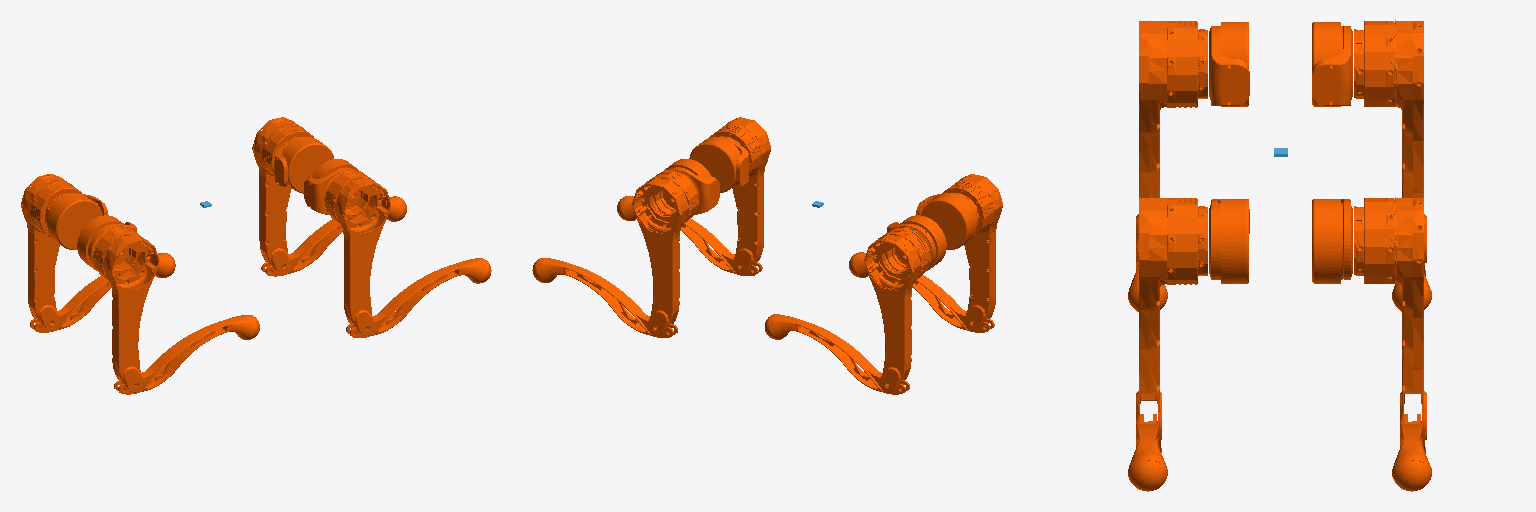
URDF robot description (sduog48):
<?xml version="1.0" ?>
<!-- =================================================================================== -->
<!-- |    This document was autogenerated by xacro from robot.xacro                    | -->
<!-- |    EDITING THIS FILE BY HAND IS NOT RECOMMENDED                                 | -->
<!-- =================================================================================== -->
<robot name="sduog48">
  <material name="black">
    <color rgba="0.0 0.0 0.0 1.0"/>
  </material>
  <material name="blue">
    <color rgba="0.0 0.0 0.8 1.0"/>
  </material>
  <material name="green">
    <color rgba="0.0 0.8 0.0 1.0"/>
  </material>
  <material name="grey">
    <color rgba="0.2 0.2 0.2 1.0"/>
  </material>
  <material name="silver">
    <color rgba="0.9137254901960784 0.9137254901960784 0.8470588235294118 1.0"/>
  </material>
  <material name="orange">
    <color rgba="1.0 0.4235294117647059 0.0392156862745098 1.0"/>
  </material>
  <material name="brown">
    <color rgba="0.8705882352941177 0.8117647058823529 0.7647058823529411 1.0"/>
  </material>
  <material name="red">
    <color rgba="0.8 0.0 0.0 1.0"/>
  </material>
  <material name="white">
    <color rgba="1.0 1.0 1.0 1.0"/>
  </material>

  <link name="trunk">
    <visual>
      <origin rpy="0 0 0" xyz="0 0 0"/>
      <geometry>
        <mesh filename="../meshes/trunk.stl" scale="1 1 1"/>
      </geometry>
    </visual>
    <collision>
      <origin rpy="0 0 0" xyz="0 0 0"/>
      <geometry>
        <!-- <box size="0.342 0.22 0.11"/> -->
        <box size="0.301 0.2 0.11"/>
      </geometry>
    </collision>
    <inertial>
      <origin rpy="0 0 0" xyz="-0.01 0.002 -0.005"/>
      <mass value="7.0"/>
      <inertia ixx="0.030338" ixy="0.001323" ixz="0.000764" iyy="0.106987" iyz="-9.7e-05" izz="0.124175"/>
    </inertial>
  </link>
  <!-- Imu is fixed to the base link -->
  <joint name="imu_link_joint" type="fixed">
    <origin rpy="0. 0. 0." xyz="0. 0. 0."/>
    <parent link="trunk"/>
    <child link="imu_link"/>
  </joint>
  <!-- Imu link -->
  <link name="imu_link">
    <inertial>
      <mass value="0.01"/>
      <origin rpy="0 0 0" xyz="0 0 0"/>
      <inertia ixx="0.000001" ixy="0" ixz="0" iyy="0.000001" iyz="0" izz="0.000001"/>
    </inertial>
    <visual>
      <origin rpy="0 0 0" xyz="0 0 0"/>
      <geometry>
        <box size="0.015 0.015 0.004"/>
      </geometry>
    </visual>
    <material name="orange">
      <color rgba="255 108 10 255"/>
    </material>
  </link>
  <gazebo reference="imu_link">
    <material>Gazebo/Orange</material>
  </gazebo>
  <gazebo reference="imu_link_joint">
    <disableFixedJointLumping>true</disableFixedJointLumping>
  </gazebo>
  <joint name="FR_hip_joint" type="revolute">
    <origin rpy="0 0 0" xyz="0.226 -0.055 0"/>
    <parent link="trunk"/>
    <child link="FR_hip"/>
    <axis xyz="1 0 0"/>
    <dynamics damping="0" friction="0"/>
    <limit effort="38" lower="-1.0471975511965976" upper="1.0471975511965976" velocity="30"/>
  </joint>
  <link name="FR_hip">
    <visual>
      <origin rpy="3.141592653589793 0 0" xyz="0 0 0"/>
      <geometry>
        <mesh filename="../meshes/hip.stl" scale="1 1 1"/>
      </geometry>
      <material name="orange"/>
    </visual>
    <collision>
      <origin rpy="1.5707963267948966 0 0" xyz="0 0 0"/>
      <geometry>
        <cylinder length="0.04" radius="0.045"/>
      </geometry>
    </collision>
    <inertial>
      <origin rpy="0 0 0" xyz="-0.003311 -0.000635 3.1e-05"/>
      <mass value="0.75"/>
      <inertia ixx="0.00050276" ixy="6.2e-07" ixz="-3.3e-07" iyy="0.00077521" iyz="1.8e-07" izz="0.00050221"/>
    </inertial>
  </link>
  <joint name="FR_thigh_joint" type="revolute">
    <origin rpy="0 0 0" xyz="0 -0.0875 0"/>
    <parent link="FR_hip"/>
    <child link="FR_thigh"/>
    <axis xyz="0 -1 0"/>
    <dynamics damping="0" friction="0"/>
    <limit effort="38" lower="-3.141592653589793" upper="1.0471975511965976" velocity="30"/>
  </joint>
  <link name="FR_thigh">
    <visual>
      <origin rpy="0 0 0" xyz="0 0 0"/>
      <geometry>
        <mesh filename="../meshes/thigh_mirror.stl" scale="1 1 1"/>
      </geometry>
      <material name="orange"/>
    </visual>
    <collision>
      <origin rpy="0 1.6707963267948966 0" xyz="-0.012 0 -0.1125"/>
      <geometry>
        <box size="0.225 0.0245 0.034"/>
      </geometry>
    </collision>
    <collision>
      <origin rpy="1.5707963267948966 0 0" xyz="0 0.025 0"/>
      <geometry>
        <cylinder length="0.04" radius="0.045"/>
      </geometry>
    </collision>
    <inertial>
      <origin rpy="0 0 0" xyz="-0.002 0.023 -0.0263"/>
      <mass value="1.25"/>
      <inertia ixx="0.005297" ixy="-0.000064" ixz="-0.000305" iyy="0.005324" iyz="-0.000752" izz="0.001094"/>
    </inertial>
  </link>
  <joint name="FR_calf_joint" type="revolute">
    <origin rpy="0 0 0" xyz="0 0 -0.225"/>
    <parent link="FR_thigh"/>
    <child link="FR_calf"/>
    <axis xyz="0 -1 0"/>
    <dynamics damping="0" friction="0"/>
    <limit effort="38" lower="0.9162978572970231" upper="2.6965336943312392" velocity="30"/>
  </joint>
  <link name="FR_calf">
    <visual>
      <origin rpy="0 0 0" xyz="0 0 0"/>
      <geometry>
        <mesh filename="../meshes/calf.stl" scale="1 1 1"/>
      </geometry>
      <material name="orange"/>
    </visual>
    <collision>
      <origin rpy="0 1.5707963267948966 0" xyz="0.0 0 -0.1125"/>
      <geometry>
        <box size="0.225 0.016 0.016"/>
      </geometry>
    </collision>
    <inertial>
      <origin rpy="0 0 0" xyz="0.01 0.0 -0.097"/>
      <mass value="0.2"/>
      <inertia ixx="0.00148254" ixy="0.0" ixz="-0.00019113" iyy="0.00152903" iyz="0.0" izz="6.72e-05"/>
    </inertial>
  </link>
  <joint name="FR_foot_fixed" type="fixed" dont_collapse="true">
    <origin rpy="0 0 0" xyz="0 0 -0.225"/>
    <parent link="FR_calf"/>
    <child link="FR_foot"/>
  </joint>
  <link name="FR_foot">
    <visual>
      <origin rpy="0 0 0" xyz="0 0 0"/>
      <geometry>
        <sphere radius="0.01"/>
      </geometry>
      <material name="orange"/>
    </visual>
    <collision>
      <origin rpy="0 0 0" xyz="0 0 0"/>
      <geometry>
        <sphere radius="0.02"/>
      </geometry>
    </collision>
    <inertial>
      <mass value="0.02"/>
      <inertia ixx="3.2000000000000003e-06" ixy="0.0" ixz="0.0" iyy="3.2000000000000003e-06" iyz="0.0" izz="3.2000000000000003e-06"/>
    </inertial>
  </link>
  <joint name="FL_hip_joint" type="revolute">
    <origin rpy="0 0 0" xyz="0.226 0.055 0"/>
    <parent link="trunk"/>
    <child link="FL_hip"/>
    <axis xyz="1 0 0"/>
    <dynamics damping="0" friction="0"/>
    <limit effort="38" lower="-1.0471975511965976" upper="1.0471975511965976" velocity="30"/>
  </joint>
  <link name="FL_hip">
    <visual>
      <origin rpy="0 0 0" xyz="0 0 0"/>
      <geometry>
        <mesh filename="../meshes/hip.stl" scale="1 1 1"/>
      </geometry>
      <material name="orange"/>
    </visual>
    <collision>
      <origin rpy="1.5707963267948966 0 0" xyz="0 0 0"/>
      <geometry>
        <cylinder length="0.04" radius="0.045"/>
      </geometry>
    </collision>
    <inertial>
      <origin rpy="0 0 0" xyz="-0.003311 0.000635 3.1e-05"/>
      <mass value="0.75"/>
      <inertia ixx="0.00050276" ixy="-6.2e-07" ixz="-3.3e-07" iyy="0.00077521" iyz="-1.8e-07" izz="0.00050221"/>
    </inertial>
  </link>
  <joint name="FL_thigh_joint" type="revolute">
    <origin rpy="0 0 0" xyz="0 0.0875 0"/>
    <parent link="FL_hip"/>
    <child link="FL_thigh"/>
    <axis xyz="0 -1 0"/>
    <dynamics damping="0" friction="0"/>
    <limit effort="38" lower="-3.141592653589793" upper="1.0471975511965976" velocity="30"/>
  </joint>
  <link name="FL_thigh">
    <visual>
      <origin rpy="0 0 0" xyz="0 0 0"/>
      <geometry>
        <mesh filename="../meshes/thigh.stl" scale="1 1 1"/>
      </geometry>
      <material name="orange"/>
    </visual>
    <collision>
      <origin rpy="0 1.6707963267948966 0" xyz="-0.012 0 -0.1125"/>
      <geometry>
        <box size="0.225 0.0245 0.034"/>
      </geometry>
    </collision>
    <collision>
      <origin rpy="1.5707963267948966 0 0" xyz="0 -0.025 0"/>
      <geometry>
        <cylinder length="0.04" radius="0.045"/>
      </geometry>
    </collision>
     <inertial>
      <origin rpy="0 0 0" xyz="-0.002 -0.023 -0.0263"/>
      <mass value="1.25"/>
      <inertia ixx="0.005297" ixy="0.000064" ixz="-0.000305" iyy="0.005324" iyz="0.000752" izz="0.001094"/>
    </inertial>
  </link>
  <joint name="FL_calf_joint" type="revolute">
    <origin rpy="0 0 0" xyz="0 0 -0.225"/>
    <parent link="FL_thigh"/>
    <child link="FL_calf"/>
    <axis xyz="0 -1 0"/>
    <dynamics damping="0" friction="0"/>
    <limit effort="38" lower="0.9162978572970231" upper="2.6965336943312392" velocity="30"/>
  </joint>
  <link name="FL_calf">
    <visual>
      <origin rpy="0 0 0" xyz="0 0 0"/>
      <geometry>
        <mesh filename="../meshes/calf.stl" scale="1 1 1"/>
      </geometry>
      <material name="orange"/>
    </visual>
    <collision>
      <origin rpy="0 1.5707963267948966 0" xyz="0.0 0 -0.1125"/>
      <geometry>
        <box size="0.225 0.016 0.016"/>
      </geometry>
    </collision>
    <inertial>
      <origin rpy="0 0 0" xyz="0.01 0.0 -0.097"/>
      <mass value="0.2"/>
      <inertia ixx="0.00148254" ixy="0.0" ixz="-0.00019113" iyy="0.00152903" iyz="0.0" izz="6.72e-05"/>
    </inertial>
  </link>
  <joint name="FL_foot_fixed" type="fixed" dont_collapse="true">
    <origin rpy="0 0 0" xyz="0 0 -0.225"/>
    <parent link="FL_calf"/>
    <child link="FL_foot"/>
  </joint>
  <link name="FL_foot">
    <visual>
      <origin rpy="0 0 0" xyz="0 0 0"/>
      <geometry>
        <sphere radius="0.01"/>
      </geometry>
      <material name="orange"/>
    </visual>
    <collision>
      <origin rpy="0 0 0" xyz="0 0 0"/>
      <geometry>
        <sphere radius="0.02"/>
      </geometry>
    </collision>
    <inertial>
      <mass value="0.02"/>
      <inertia ixx="3.2000000000000003e-06" ixy="0.0" ixz="0.0" iyy="3.2000000000000003e-06" iyz="0.0" izz="3.2000000000000003e-06"/>
    </inertial>
  </link>
  <joint name="RR_hip_joint" type="revolute">
    <origin rpy="0 0 0" xyz="-0.226 -0.055 0"/>
    <parent link="trunk"/>
    <child link="RR_hip"/>
    <axis xyz="1 0 0"/>
    <dynamics damping="0" friction="0"/>
    <limit effort="38" lower="-1.0471975511965976" upper="1.0471975511965976" velocity="30"/>
  </joint>
  <link name="RR_hip">
    <visual>
      <origin rpy="3.141592653589793 3.141592653589793 0" xyz="0 0 0"/>
      <geometry>
        <mesh filename="../meshes/hip.stl" scale="1 1 1"/>
      </geometry>
      <material name="orange"/>
    </visual>
    <collision>
      <origin rpy="1.5707963267948966 0 0" xyz="0 0 0"/>
      <geometry>
        <cylinder length="0.04" radius="0.045"/>
      </geometry>
    </collision>
    <inertial>
      <origin rpy="0 0 0" xyz="0.003311 -0.000635 3.1e-05"/>
      <mass value="0.75"/>
      <inertia ixx="0.00050276" ixy="-6.2e-07" ixz="3.3e-07" iyy="0.00077521" iyz="1.8e-07" izz="0.00050221"/>
    </inertial>
  </link>
  <joint name="RR_thigh_joint" type="revolute">
    <origin rpy="0 0 0" xyz="0 -0.0875 0"/>
    <parent link="RR_hip"/>
    <child link="RR_thigh"/>
    <axis xyz="0 -1 0"/>
    <dynamics damping="0" friction="0"/>
    <limit effort="38" lower="-3.141592653589793" upper="1.0471975511965976" velocity="30"/>
  </joint>
  <link name="RR_thigh">
    <visual>
      <origin rpy="0 0 0" xyz="0 0 0"/>
      <geometry>
        <mesh filename="../meshes/thigh_mirror.stl" scale="1 1 1"/>
      </geometry>
      <material name="orange"/>
    </visual>
    <collision>
      <origin rpy="0 1.6707963267948966 0" xyz="-0.012 0 -0.1125"/>
      <geometry>
        <box size="0.225 0.0245 0.034"/>
      </geometry>
    </collision>
    <collision>
      <origin rpy="1.5707963267948966 0 0" xyz="0 0.025 0"/>
      <geometry>
        <cylinder length="0.04" radius="0.045"/>
      </geometry>
    </collision>
     <inertial>
      <origin rpy="0 0 0" xyz="-0.002 0.023 -0.0263"/>
      <mass value="1.25"/>
      <inertia ixx="0.005297" ixy="-0.000064" ixz="-0.000305" iyy="0.005324" iyz="-0.000752" izz="0.001094"/>
    </inertial>
  </link>
  <joint name="RR_calf_joint" type="revolute">
    <origin rpy="0 0 0" xyz="0 0 -0.225"/>
    <parent link="RR_thigh"/>
    <child link="RR_calf"/>
    <axis xyz="0 -1 0"/>
    <dynamics damping="0" friction="0"/>
    <limit effort="38" lower="0.9162978572970231" upper="2.6965336943312392" velocity="30"/>
  </joint>
  <link name="RR_calf">
    <visual>
      <origin rpy="0 0 0" xyz="0 0 0"/>
      <geometry>
        <mesh filename="../meshes/calf.stl" scale="1 1 1"/>
      </geometry>
      <material name="orange"/>
    </visual>
    <collision>
      <origin rpy="0 1.5707963267948966 0" xyz="0.0 0 -0.1125"/>
      <geometry>
        <box size="0.225 0.016 0.016"/>
      </geometry>
    </collision>
    <inertial>
      <origin rpy="0 0 0" xyz="0.01 0.0 -0.097"/>
      <mass value="0.2"/>
      <inertia ixx="0.00148254" ixy="0.0" ixz="-0.00019113" iyy="0.00152903" iyz="0.0" izz="6.72e-05"/>
    </inertial>
  </link>
  <joint name="RR_foot_fixed" type="fixed" dont_collapse="true">
    <origin rpy="0 0 0" xyz="0 0 -0.225"/>
    <parent link="RR_calf"/>
    <child link="RR_foot"/>
  </joint>
  <link name="RR_foot">
    <visual>
      <origin rpy="0 0 0" xyz="0 0 0"/>
      <geometry>
        <sphere radius="0.01"/>
      </geometry>
      <material name="orange"/>
    </visual>
    <collision>
      <origin rpy="0 0 0" xyz="0 0 0"/>
      <geometry>
        <sphere radius="0.02"/>
      </geometry>
    </collision>
    <inertial>
      <mass value="0.02"/>
      <inertia ixx="3.2000000000000003e-06" ixy="0.0" ixz="0.0" iyy="3.2000000000000003e-06" iyz="0.0" izz="3.2000000000000003e-06"/>
    </inertial>
  </link>
  <joint name="RL_hip_joint" type="revolute">
    <origin rpy="0 0 0" xyz="-0.226 0.055 0"/>
    <parent link="trunk"/>
    <child link="RL_hip"/>
    <axis xyz="1 0 0"/>
    <dynamics damping="0" friction="0"/>
    <limit effort="38" lower="-1.0471975511965976" upper="1.0471975511965976" velocity="30"/>
  </joint>
  <link name="RL_hip">
    <visual>
      <origin rpy="0 3.141592653589793 0" xyz="0 0 0"/>
      <geometry>
        <mesh filename="../meshes/hip.stl" scale="1 1 1"/>
      </geometry>
      <material name="orange"/>
    </visual>
    <collision>
      <origin rpy="1.5707963267948966 0 0" xyz="0 0 0"/>
      <geometry>
        <cylinder length="0.04" radius="0.045"/>
      </geometry>
    </collision>
    <inertial>
      <origin rpy="0 0 0" xyz="0.003311 0.000635 3.1e-05"/>
      <mass value="0.75"/>
      <inertia ixx="0.00050276" ixy="6.2e-07" ixz="3.3e-07" iyy="0.00077521" iyz="-1.8e-07" izz="0.00050221"/>
    </inertial>
  </link>
  <joint name="RL_thigh_joint" type="revolute">
    <origin rpy="0 0 0" xyz="0 0.0875 0"/>
    <parent link="RL_hip"/>
    <child link="RL_thigh"/>
    <axis xyz="0 -1 0"/>
    <dynamics damping="0" friction="0"/>
    <limit effort="38" lower="-3.141592653589793" upper="1.0471975511965976" velocity="30"/>
  </joint>
  <link name="RL_thigh">
    <visual>
      <origin rpy="0 0 0" xyz="0 0 0"/>
      <geometry>
        <mesh filename="../meshes/thigh.stl" scale="1 1 1"/>
      </geometry>
      <material name="orange"/>
    </visual>
    <collision>
      <origin rpy="0 1.6707963267948966 0" xyz="-0.012 0 -0.1125"/>
      <geometry>
        <box size="0.225 0.0245 0.034"/>
      </geometry>
    </collision>
    <collision>
      <origin rpy="1.5707963267948966 0 0" xyz="0 -0.025 0"/>
      <geometry>
        <cylinder length="0.04" radius="0.045"/>
      </geometry>
    </collision>
     <inertial>
      <origin rpy="0 0 0" xyz="-0.002 -0.023 -0.0263"/>
      <mass value="1.25"/>
      <inertia ixx="0.005297" ixy="0.000064" ixz="-0.000305" iyy="0.005324" iyz="0.000752" izz="0.001094"/>
    </inertial>
  </link>
  <joint name="RL_calf_joint" type="revolute">
    <origin rpy="0 0 0" xyz="0 0 -0.225"/>
    <parent link="RL_thigh"/>
    <child link="RL_calf"/>
    <axis xyz="0 -1 0"/>
    <dynamics damping="0" friction="0"/>
    <limit effort="38" lower="0.9162978572970231" upper="2.6965336943312392" velocity="30"/>
  </joint>
  <link name="RL_calf">
    <visual>
      <origin rpy="0 0 0" xyz="0 0 0"/>
      <geometry>
        <mesh filename="../meshes/calf.stl" scale="1 1 1"/>
      </geometry>
      <material name="orange"/>
    </visual>
    <collision>
      <origin rpy="0 1.5707963267948966 0" xyz="0.0 0 -0.1125"/>
      <geometry>
        <box size="0.225 0.016 0.016"/>
      </geometry>
    </collision>
    <inertial>
      <origin rpy="0 0 0" xyz="0.01 0.0 -0.097"/>
      <mass value="0.2"/>
      <inertia ixx="0.00148254" ixy="0.0" ixz="-0.00019113" iyy="0.00152903" iyz="0.0" izz="6.72e-05"/>
    </inertial>
  </link> 
  <joint name="RL_foot_fixed" type="fixed" dont_collapse="true">
    <origin rpy="0 0 0" xyz="0 0 -0.225"/>
    <parent link="RL_calf"/>
    <child link="RL_foot"/>
  </joint>
  <link name="RL_foot">
    <visual>
      <origin rpy="0 0 0" xyz="0 0 0"/>
      <geometry>
        <sphere radius="0.01"/>
      </geometry>
      <material name="orange"/>
    </visual>
    <collision>
      <origin rpy="0 0 0" xyz="0 0 0"/>
      <geometry>
        <sphere radius="0.02"/>
      </geometry>
    </collision>
    <inertial>
      <mass value="0.02"/>
      <inertia ixx="3.2000000000000003e-06" ixy="0.0" ixz="0.0" iyy="3.2000000000000003e-06" iyz="0.0" izz="3.2000000000000003e-06"/>
    </inertial>
  </link>
</robot>

--- What the picture shows (computed from the rendered views, not written in the file) ---
3 views of the same robot in one strip: view 1: azimuth 30°, elevation 25°; view 2: azimuth 150°, elevation 25°; view 3: azimuth 270°, elevation 25° (orthographic).
Model sduog48 with 18 links and 17 joints (12 revolute, 5 fixed), rooted at trunk, posed all joints at 0 but 4 set to mid-range because 0 is outside their limits (FR_calf_joint = 1.81, FL_calf_joint = 1.81, RR_calf_joint = 1.81, RL_calf_joint = 1.81).
Links seen in each view (by area): view 1: RR_thigh, FR_thigh, RL_thigh, FL_thigh, FR_calf, RR_calf, FL_hip, RL_hip, FL_calf, RL_calf, FR_hip, RR_hip; view 2: FL_thigh, RL_thigh, RR_thigh, FR_thigh, FL_calf, RL_calf, FR_hip, RR_hip, RR_calf, FR_calf, FL_hip, RL_hip; view 3: FL_thigh, FR_thigh, RL_thigh, RR_thigh, FL_hip, RL_hip, FR_hip, RR_hip, FL_calf, FR_calf, RR_calf.
Link boxes in pixels (x1,y1,x2,y2): RR_thigh: (93, 227, 159, 392); FR_thigh: (325, 170, 390, 335); RL_thigh: (21, 174, 81, 330); FL_thigh: (252, 117, 313, 274); FR_calf: (346, 258, 491, 337); RR_calf: (114, 315, 259, 394); FL_hip: (274, 137, 333, 193); RL_hip: (47, 193, 107, 249); FL_calf: (261, 196, 406, 276); RL_calf: (30, 253, 175, 332); FR_hip: (304, 159, 358, 214); RR_hip: (77, 215, 137, 270); FL_thigh: (632, 170, 698, 336); RL_thigh: (864, 227, 930, 392); RR_thigh: (942, 174, 1002, 330); FR_thigh: (709, 117, 770, 274); FL_calf: (532, 258, 677, 337); RL_calf: (765, 314, 909, 394); FR_hip: (689, 137, 749, 192); RR_hip: (916, 193, 977, 249); RR_calf: (849, 252, 994, 332); FR_calf: (617, 196, 762, 275); FL_hip: (664, 159, 719, 214); RL_hip: (887, 215, 946, 270); FL_thigh: (1354, 197, 1426, 439); FR_thigh: (1136, 198, 1207, 439); RL_thigh: (1354, 20, 1426, 262); RR_thigh: (1136, 21, 1207, 246); FL_hip: (1312, 199, 1352, 283); RL_hip: (1312, 22, 1352, 106); FR_hip: (1209, 199, 1249, 283); RR_hip: (1209, 22, 1249, 106); FL_calf: (1392, 414, 1431, 491); FR_calf: (1128, 414, 1167, 491); RR_calf: (1128, 247, 1167, 311).
Bounding box of the posed robot: 0.7439 × 0.329 × 0.2873 m (x, y, z).
12 mesh visuals loaded from 5 distinct referenced files (4 binary STL); not drawn: 1 (reference not matched to a file when rendering).
